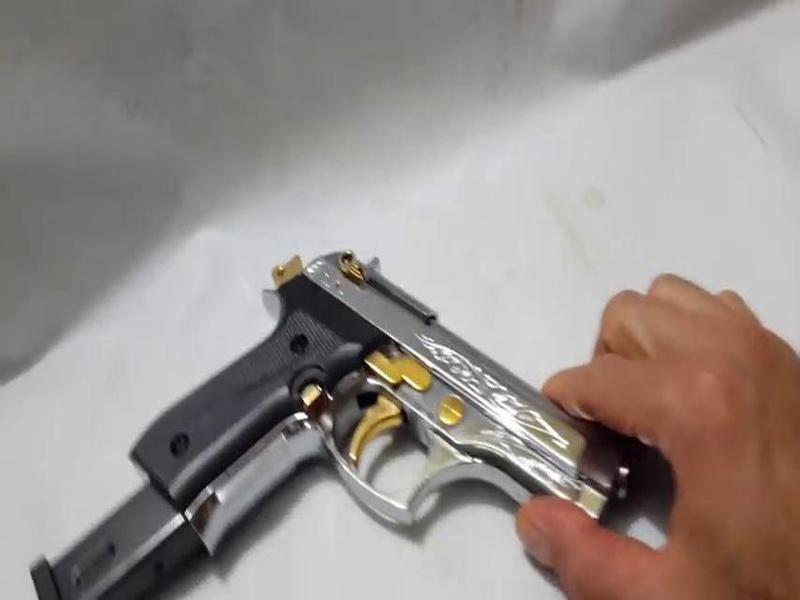Pistola: (134, 235, 657, 560)
